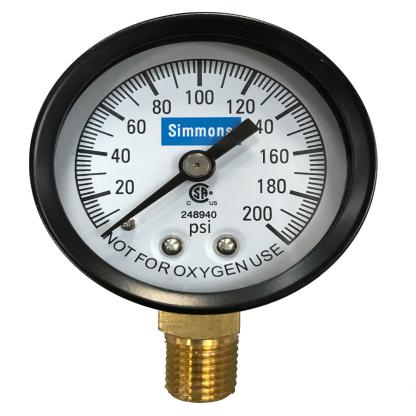needle: (98, 171, 188, 240)
